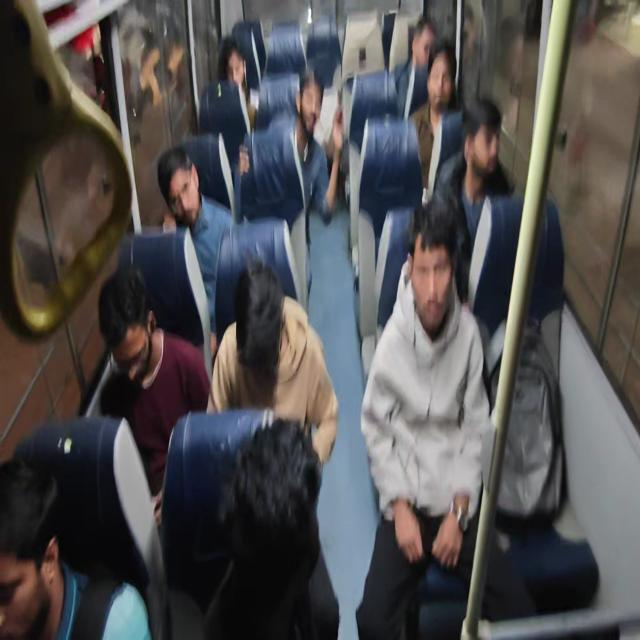person: (212, 447, 326, 617), (398, 197, 502, 370), (218, 265, 322, 417), (0, 473, 70, 640), (101, 278, 170, 388), (302, 56, 347, 154), (167, 136, 206, 246), (472, 115, 510, 203), (434, 54, 467, 137), (216, 35, 252, 99), (291, 66, 323, 134), (416, 17, 430, 56)
